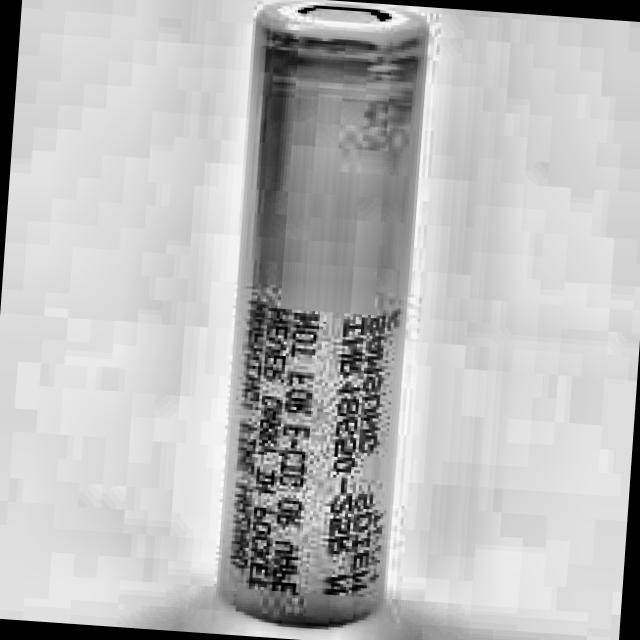Battery: (217, 1, 424, 627)
